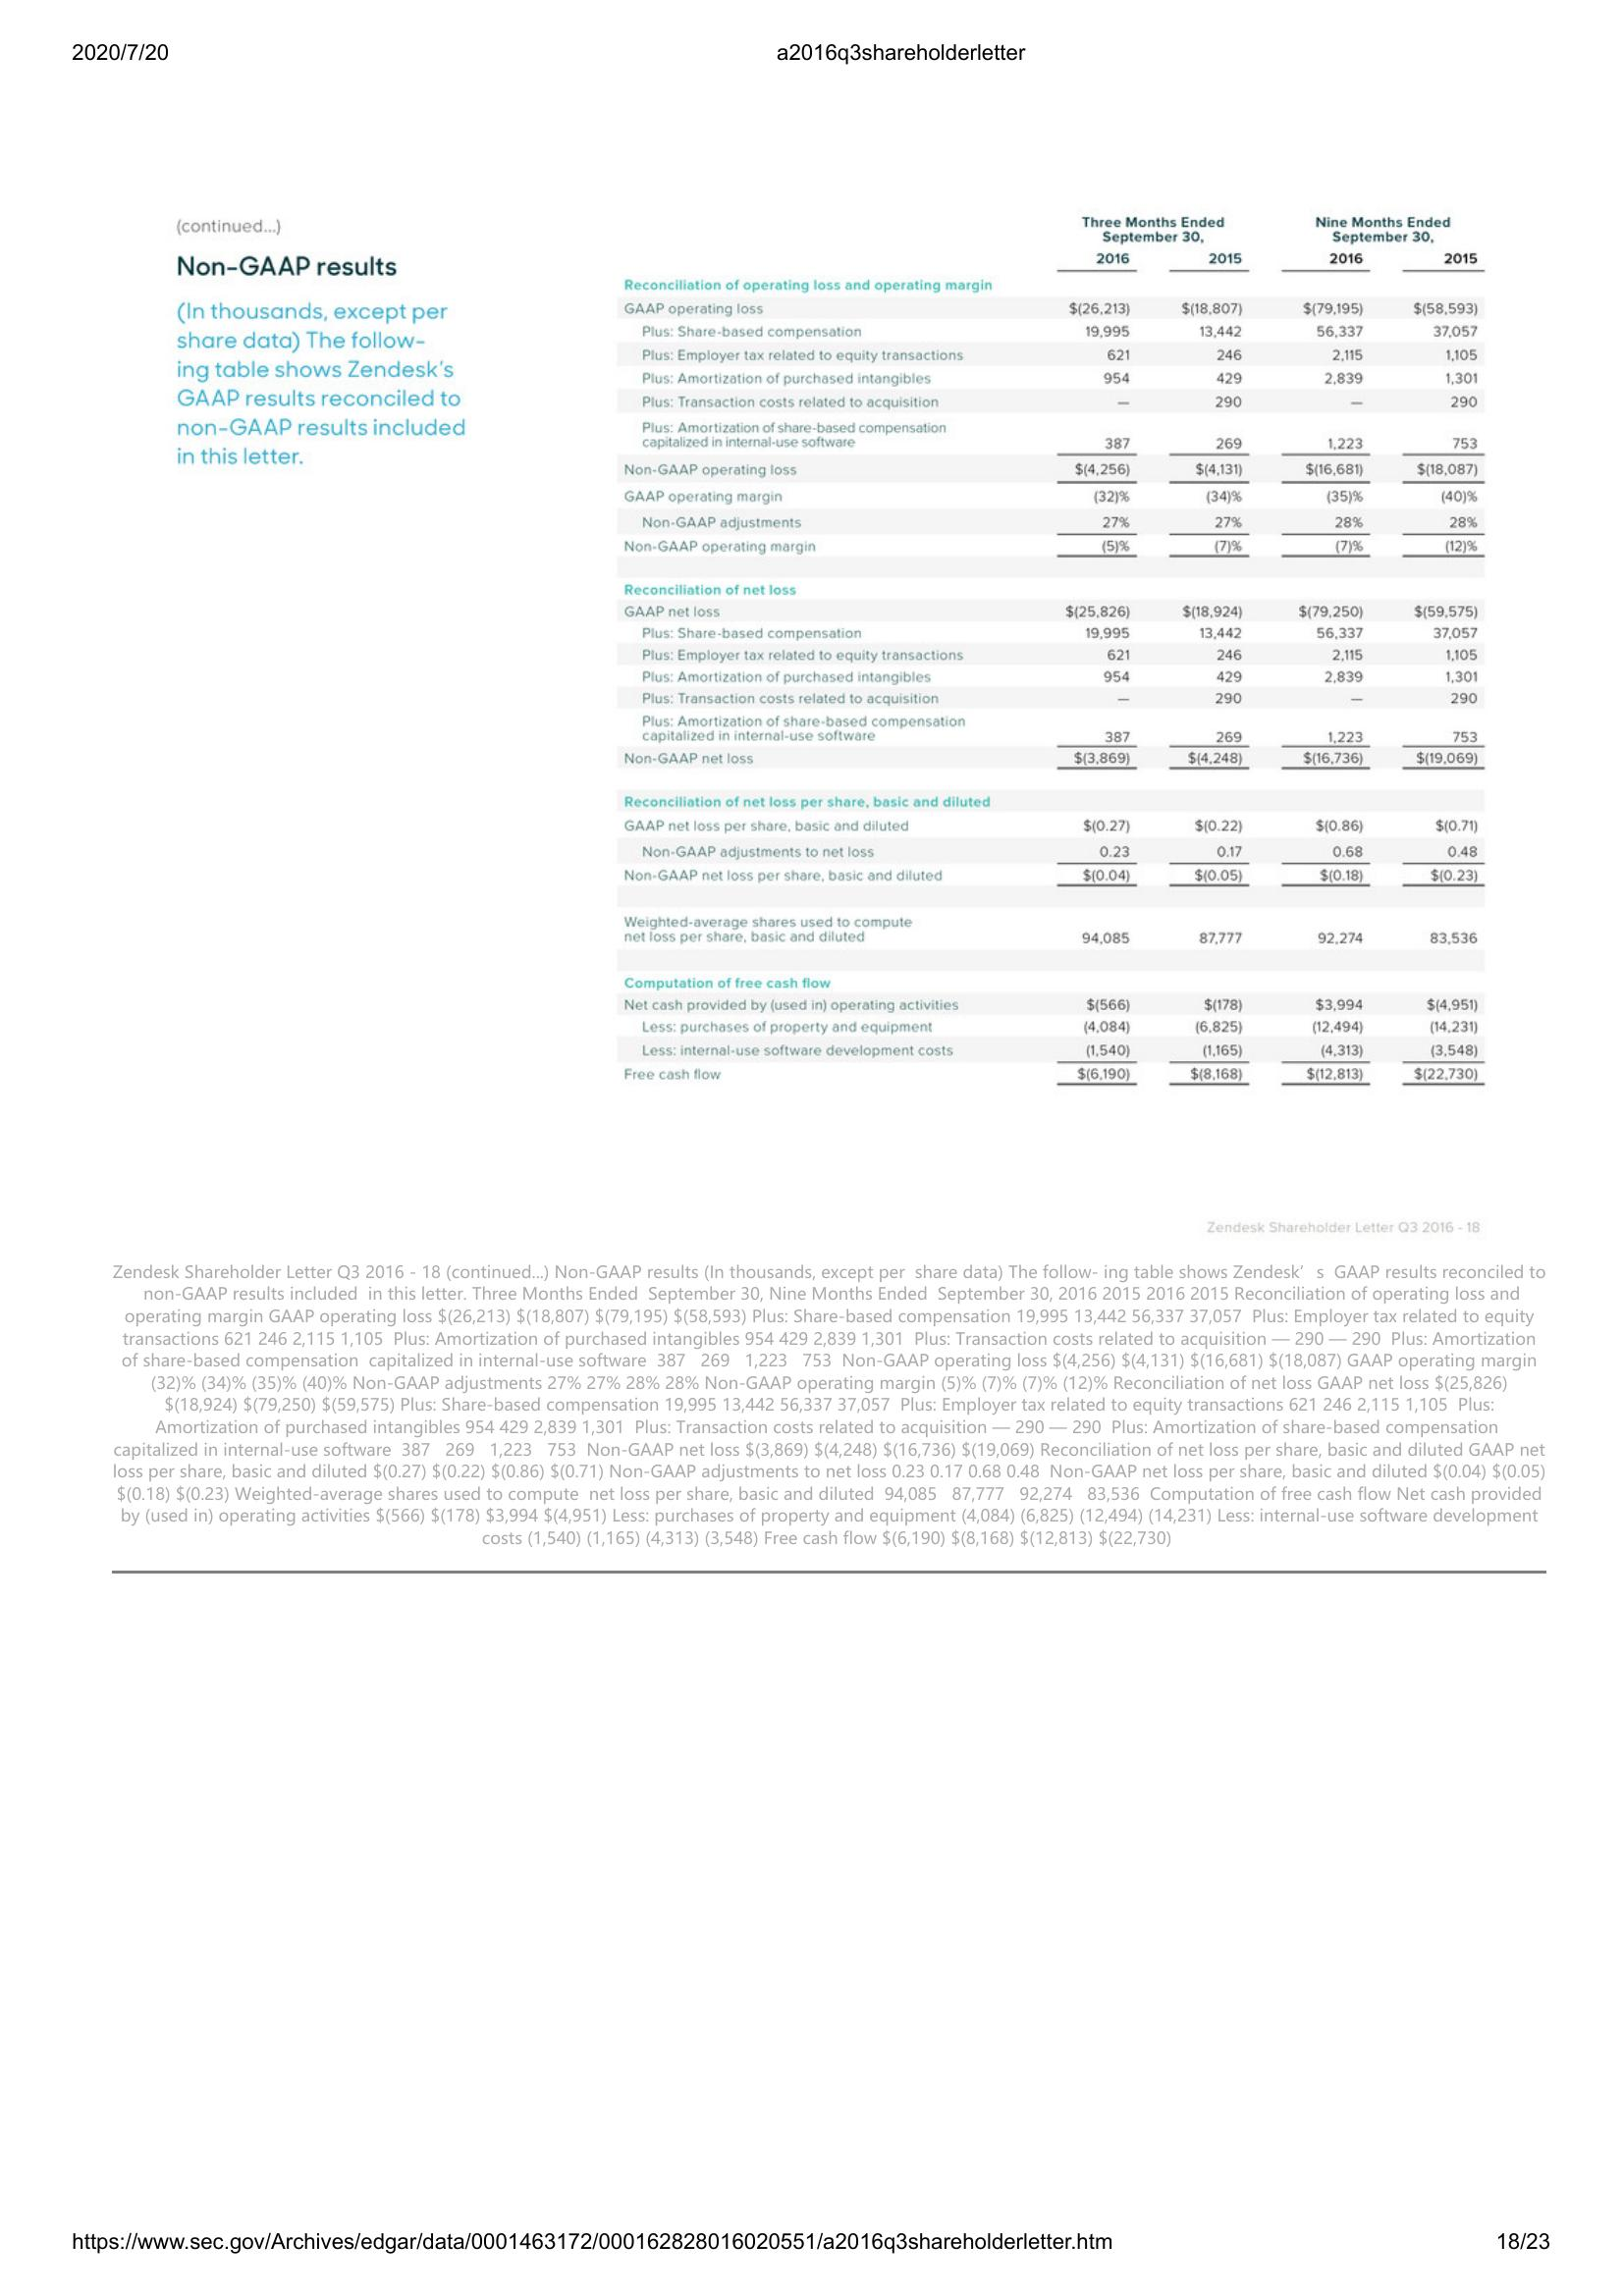table: (613, 209, 1498, 1095)
